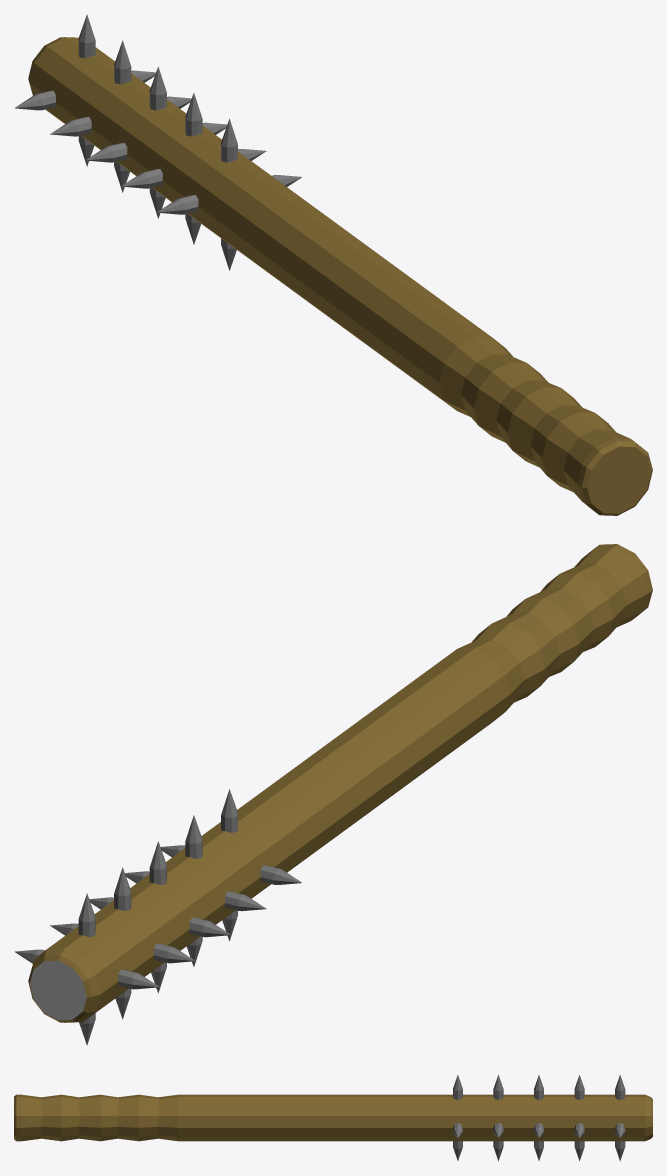
Rendered from Spiked_Club.fbx.
The picture shows the model from 3 angles, top to bottom: view 1: azimuth 30°, elevation 25°; view 2: azimuth 150°, elevation 25°; view 3: azimuth 270°, elevation 25°; orthographic projection. The views are drawn at different scales.
Visible parts, largest first — view 1: GAM7003_Mace; view 2: GAM7003_Mace; view 3: GAM7003_Mace.
Boxes of the visible parts, bbox=[...] form: GAM7003_Mace: bbox=[14, 14, 652, 515]; GAM7003_Mace: bbox=[14, 544, 652, 1045]; GAM7003_Mace: bbox=[14, 1074, 652, 1161].
Bounding box in the file's own units: 15.02 × 15.02 × 99.81.
